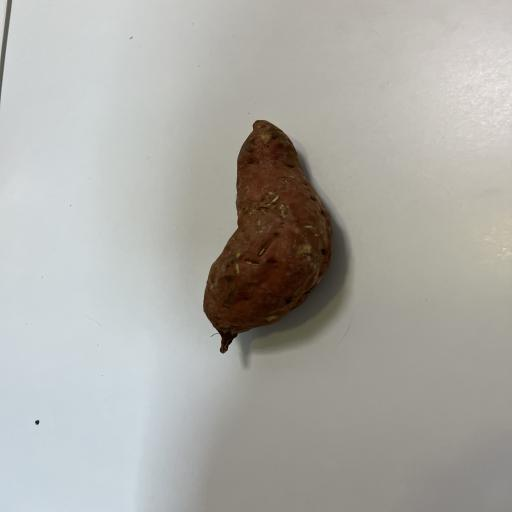sweet_potato: (171, 110, 367, 374)
